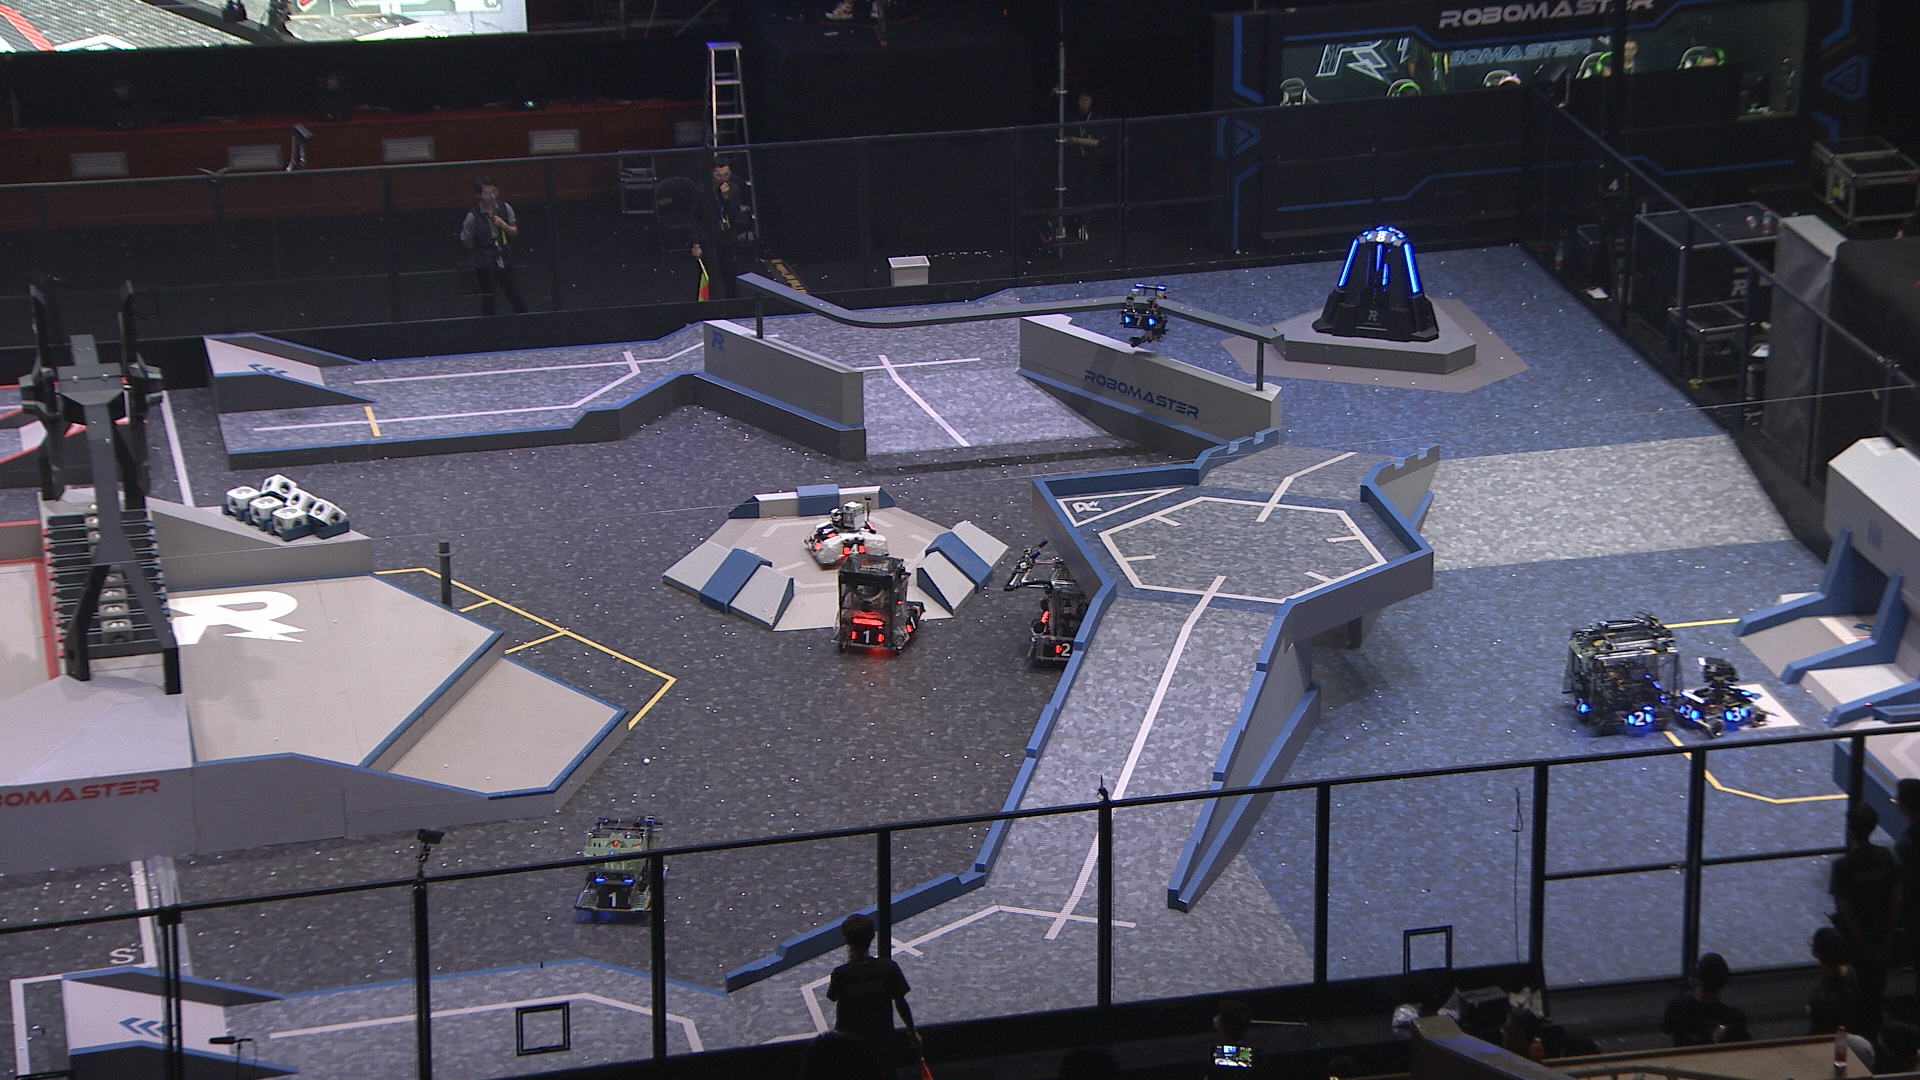armor: (1335, 239, 1358, 290), (595, 885, 632, 911), (1403, 243, 1420, 294), (847, 628, 885, 646), (1124, 314, 1158, 330), (1626, 709, 1655, 728), (1724, 705, 1749, 727), (1367, 228, 1396, 245), (1677, 702, 1700, 723), (1051, 642, 1076, 659), (1371, 244, 1385, 276), (843, 541, 868, 556), (905, 615, 920, 636), (1575, 698, 1589, 716), (1378, 261, 1389, 285), (818, 526, 837, 537), (808, 535, 822, 551)
base: (1309, 225, 1443, 344)
car: (1557, 615, 1685, 738), (1025, 556, 1135, 671), (827, 553, 927, 654), (572, 818, 669, 920), (1673, 657, 1766, 738), (803, 498, 887, 571)
watcher: (1116, 280, 1168, 347)
